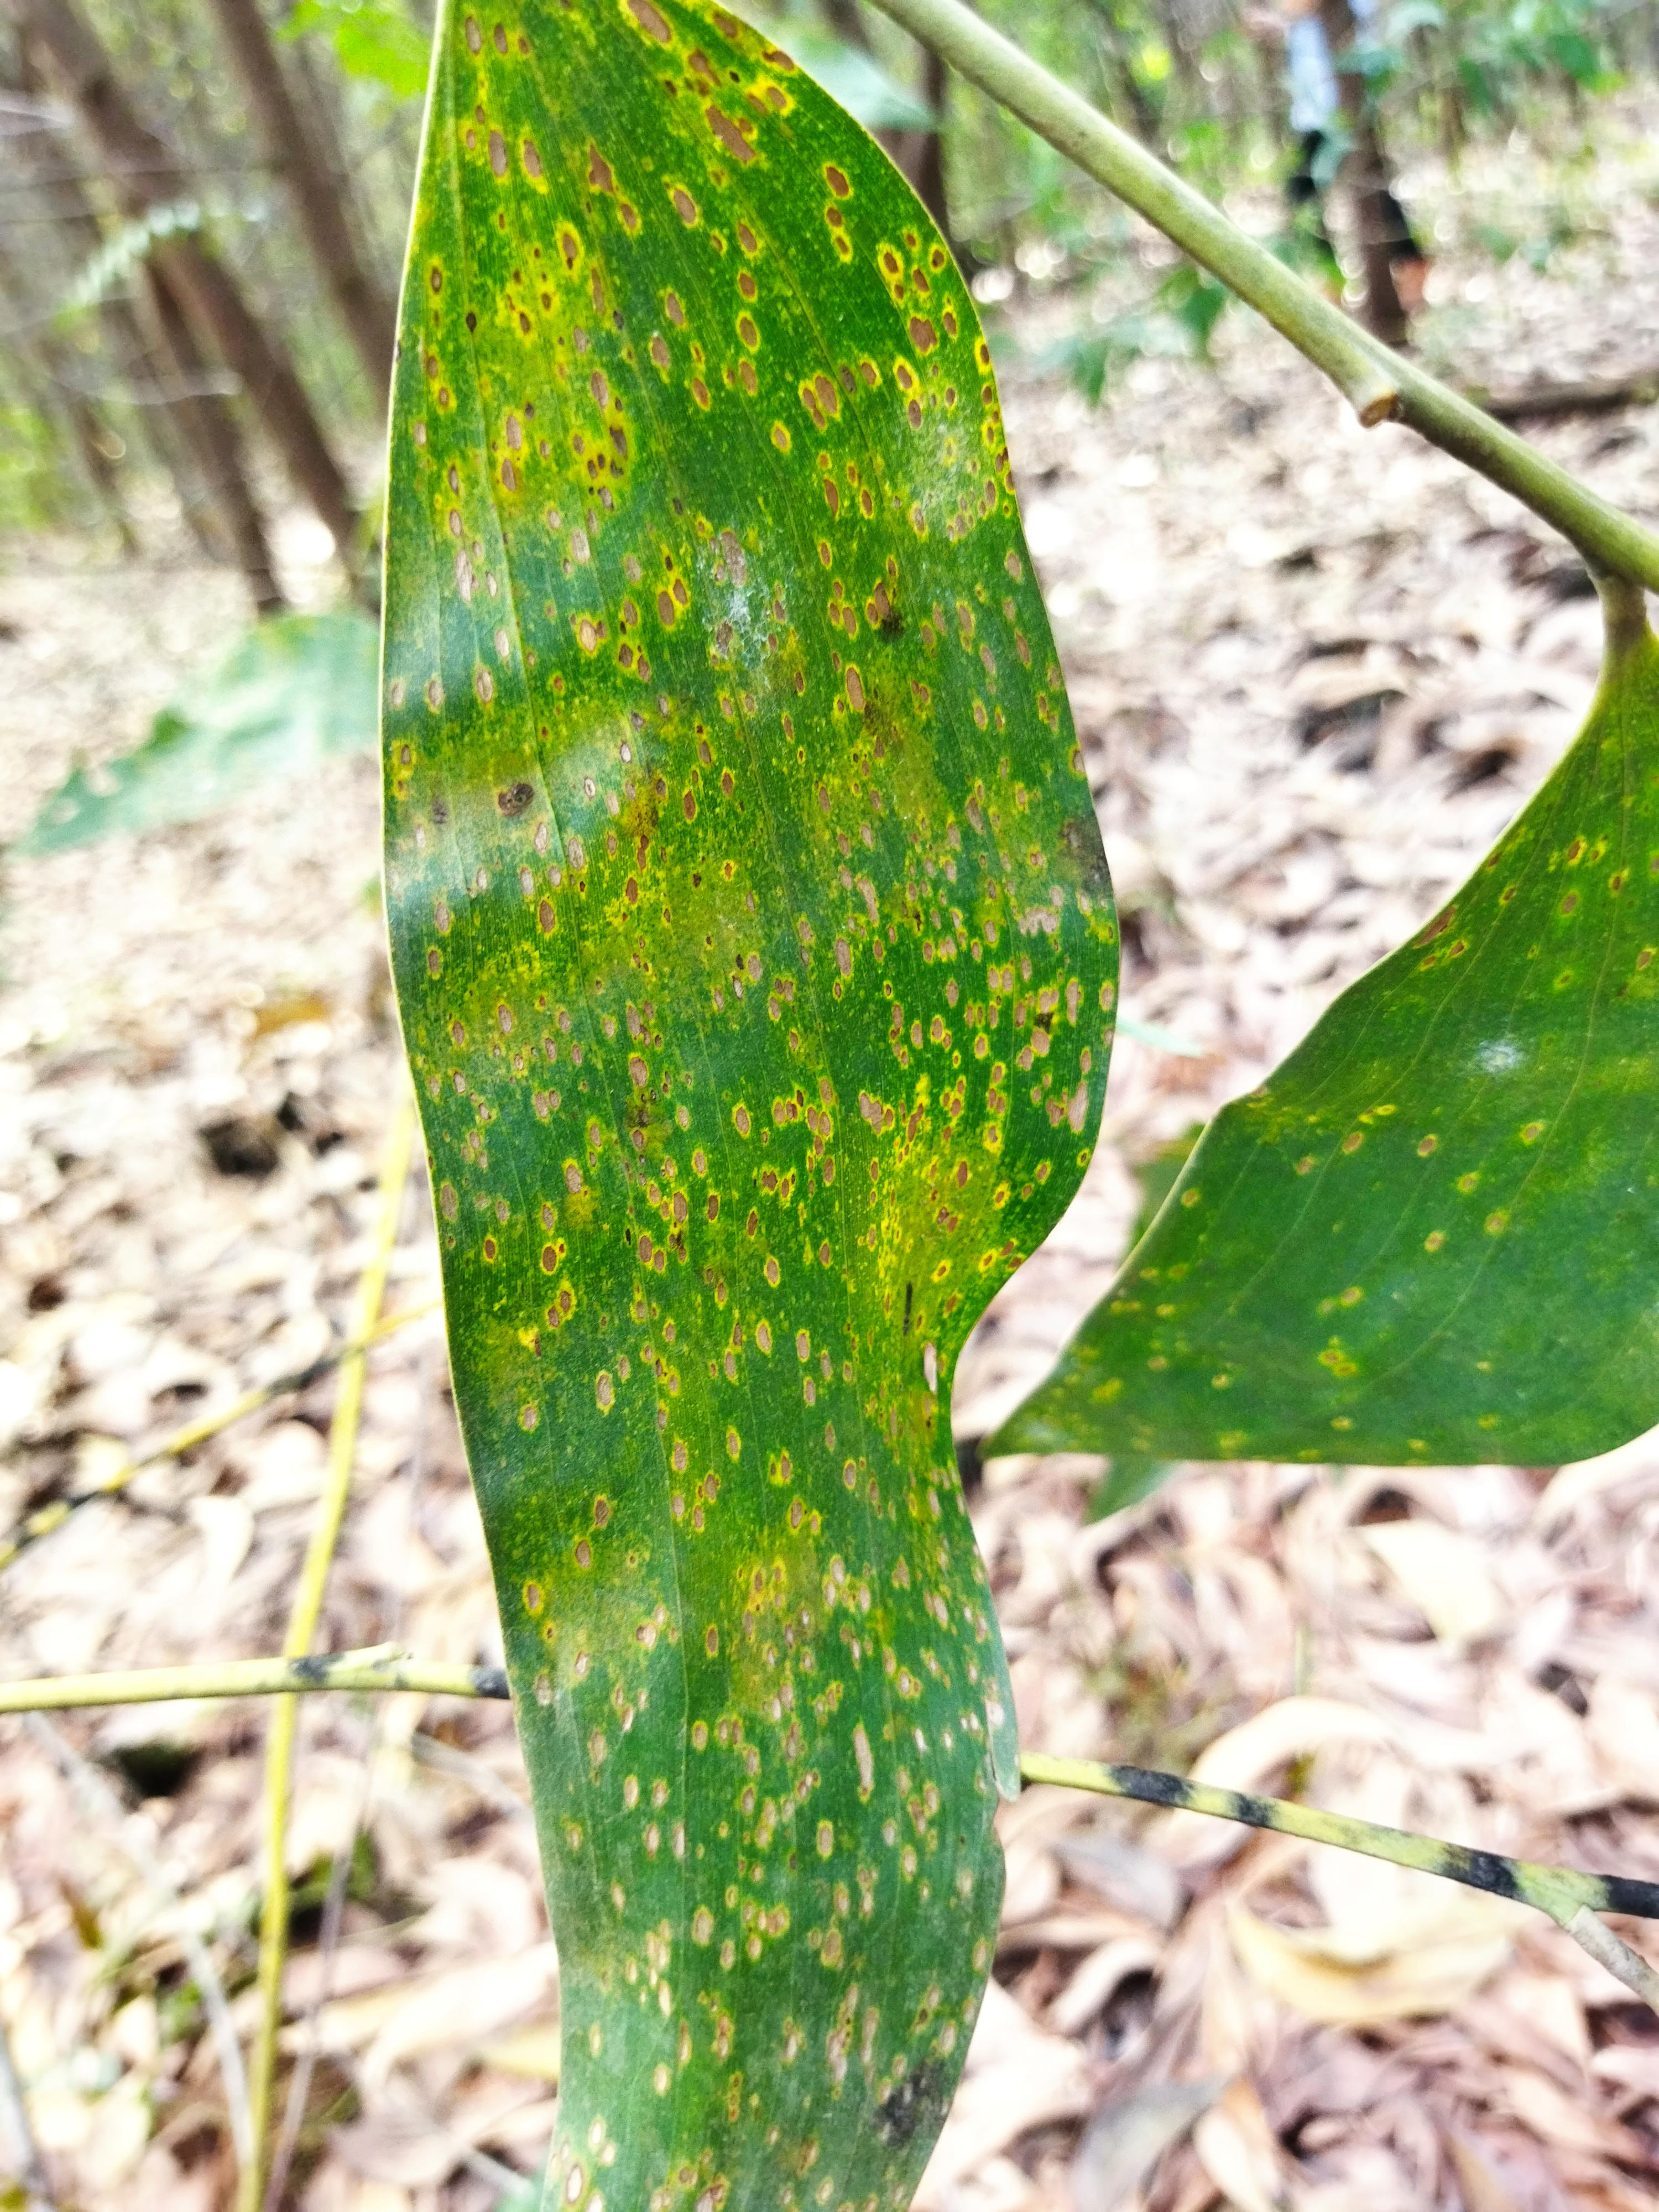Xanthomonas: (410, 145, 1072, 2212)
